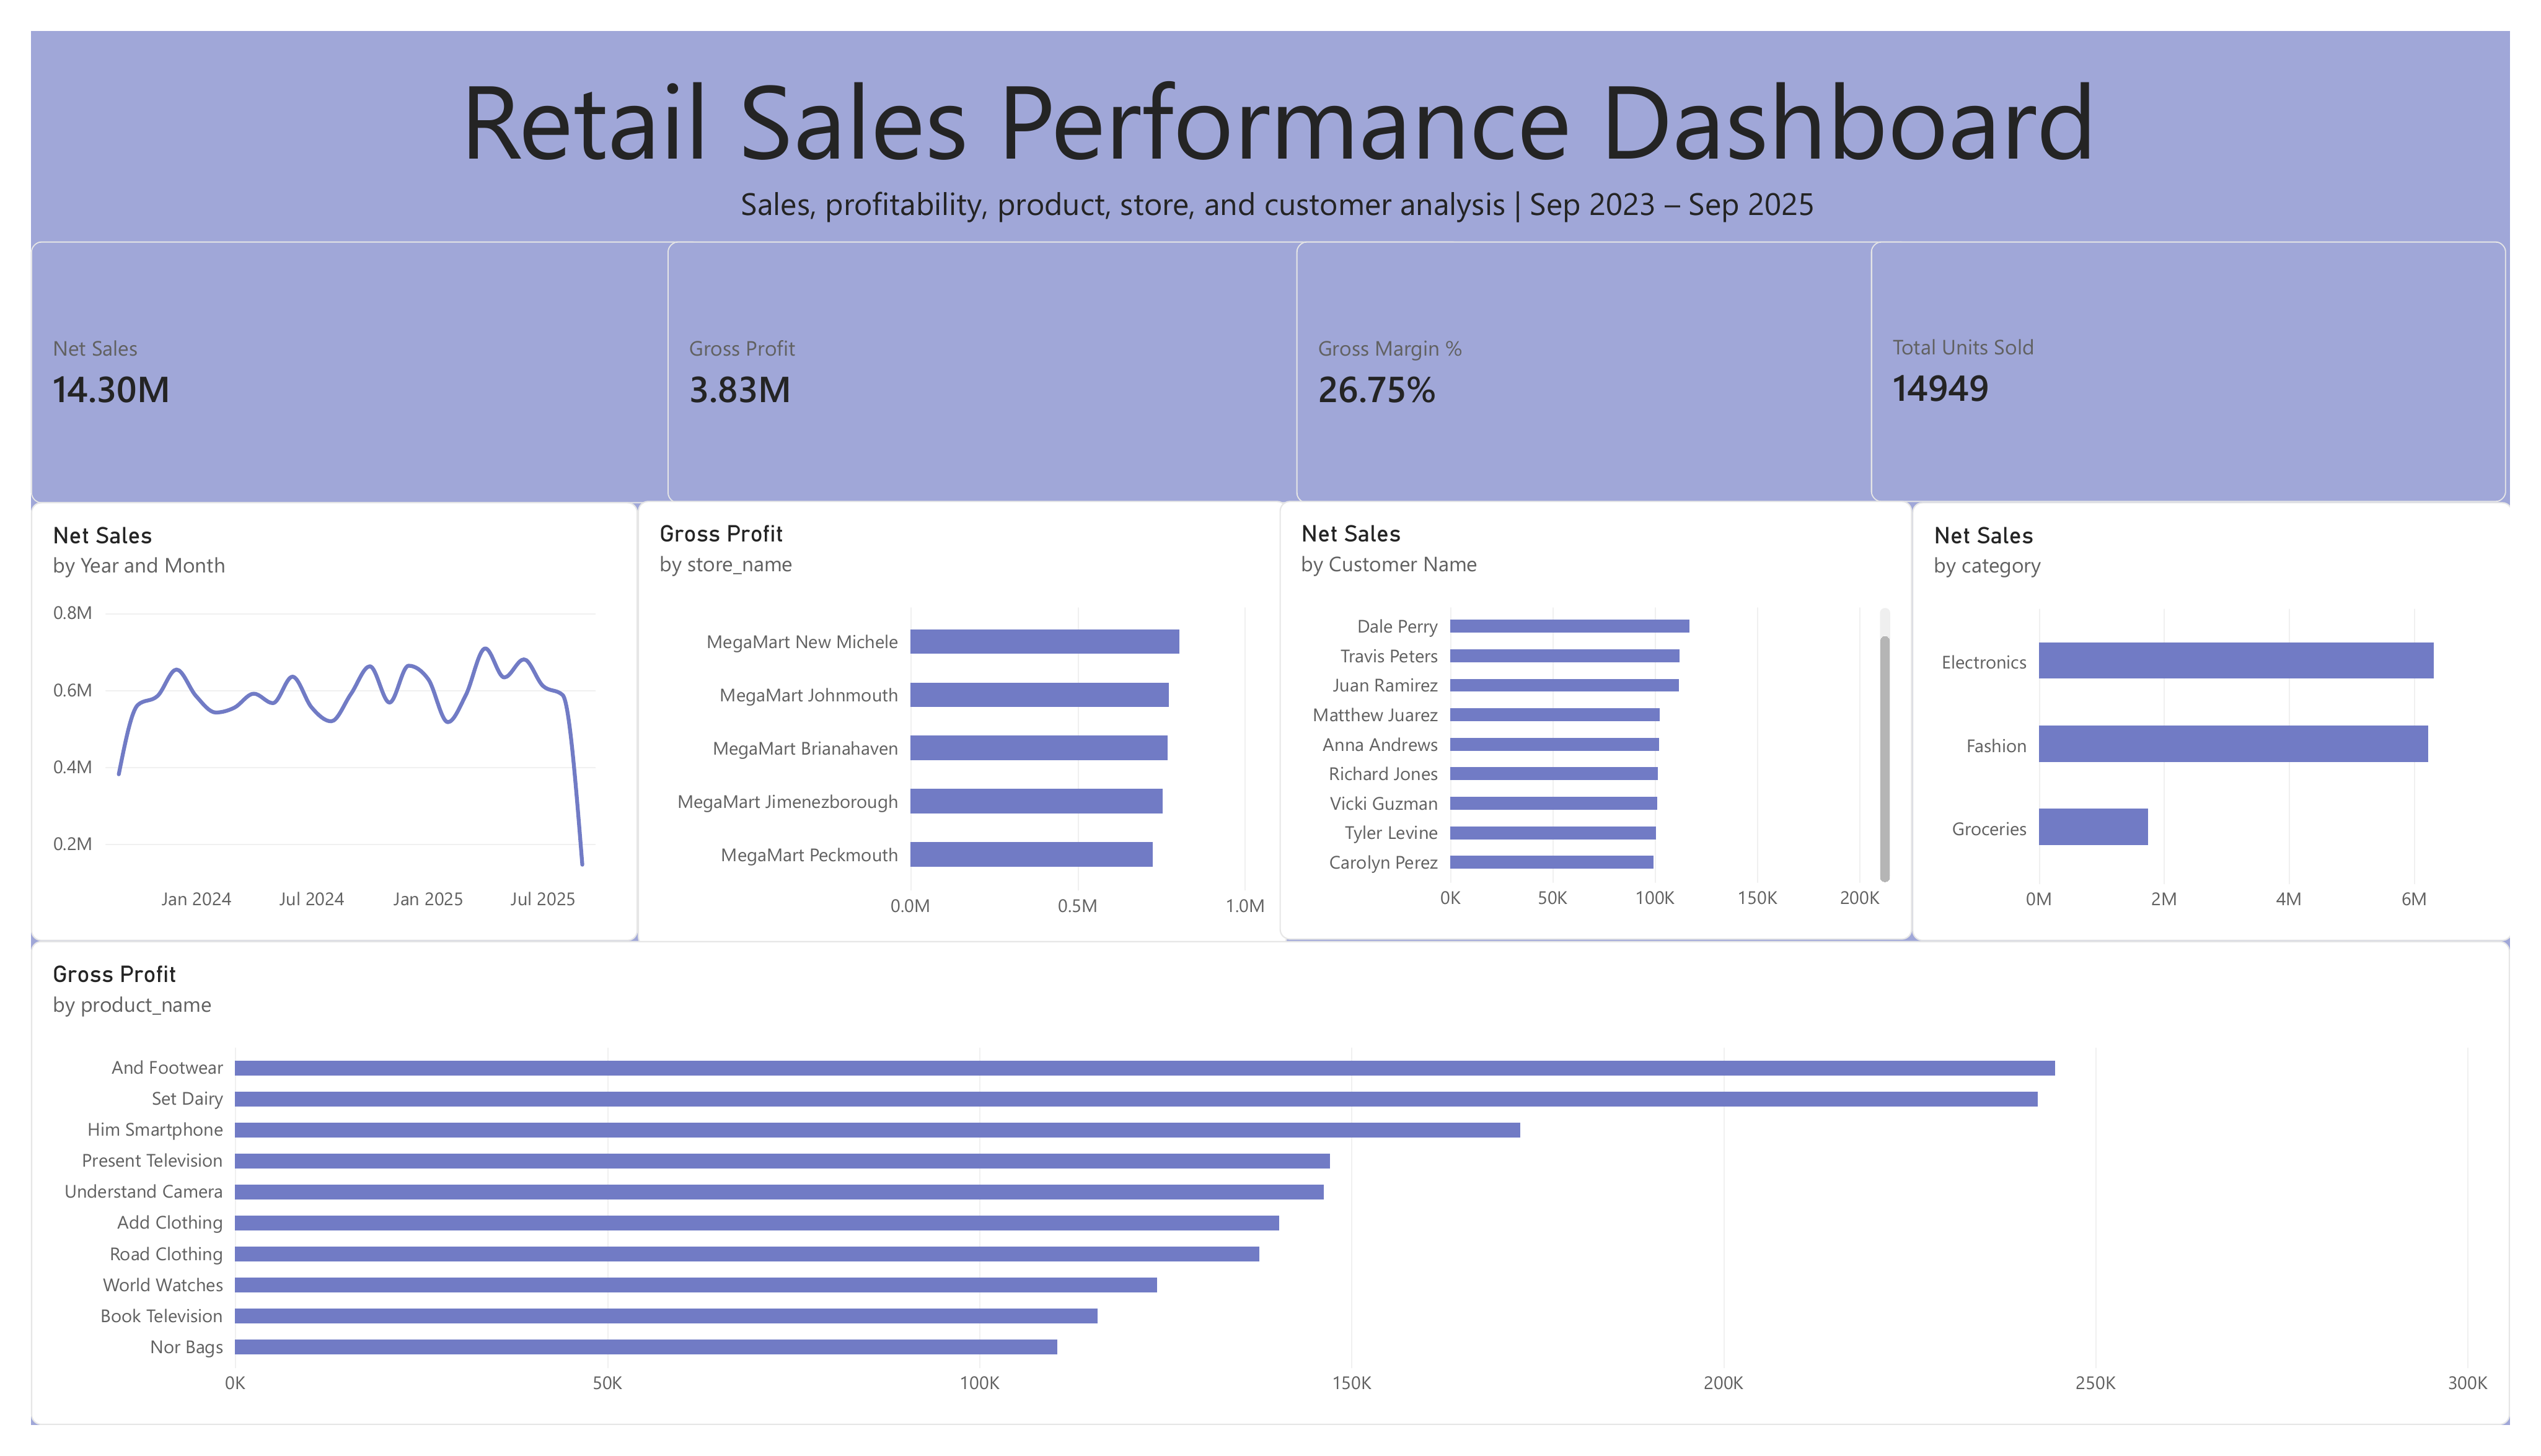

The page's visual inventory and layout, read from the dashboard file:
{"tool":"powerbi","page":{"name":"Page 1","canvas":[1920,1080],"ordinal":0},"visuals":[{"type":"cardVisual","fields":{"Data":["public customers.Net Sales"]},"box":[0,163.3,520,203.3],"z":0},{"type":"cardVisual","fields":{"Data":["public customers.Gross Profit"]},"box":[492.5,162.5,616.7,203.3],"z":1000},{"type":"cardVisual","fields":{"Data":["public customers.Gross Margin %"]},"box":[980,162.5,476.7,203.3],"z":2000},{"type":"cardVisual","fields":{"Data":["public customers.Total Units Sold"]},"box":[1425,162.5,492.5,202.5],"z":3000},{"type":"lineChart","fields":{"Category":["public transactions.transaction_date.Variation.Date Hierarchy.Year","public transactions.transaction_date.Variation.Date Hierarchy.Month"],"Y":["public customers.Net Sales"]},"box":[0,365,470,340],"z":4000},{"type":"barChart","fields":{"Category":["public products.category"],"Y":["public customers.Net Sales"]},"box":[1456.7,365,465,340],"z":5000},{"type":"barChart","fields":{"Category":["public stores.store_name"],"Y":["public customers.Gross Profit"]},"box":[470,364.3,502.9,345.7],"z":6000},{"type":"barChart","fields":{"Category":["public products.product_name"],"Y":["public customers.Gross Profit"]},"box":[0,705,1920,375],"z":7000},{"type":"barChart","fields":{"Category":["public customers.Customer Name"],"Y":["public customers.Net Sales"]},"box":[967.1,364.3,490,340],"z":8000},{"type":"textbox","box":[260,13.3,1413.3,140],"z":9000},{"type":"textbox","box":[550,116.7,850,73.3],"z":9001}]}

Visuals, with their boxes on the page's 1920x1080 design canvas (x1, y1, x2, y2). These are canvas units, not pixel positions in the 2541x1456 screenshot, which may show the page scaled, cropped or inside an application window:
cardVisual - public customers.Net Sales: bbox=(0, 163, 520, 367)
cardVisual - public customers.Gross Profit: bbox=(492, 162, 1109, 366)
cardVisual - public customers.Gross Margin %: bbox=(980, 162, 1457, 366)
cardVisual - public customers.Total Units Sold: bbox=(1425, 162, 1918, 365)
lineChart - public transactions.transaction_date.Variation.Date Hierarchy.Year x public transactions.transaction_date.Variation.Date Hierarchy.Month: bbox=(0, 365, 470, 705)
barChart - public products.category x public customers.Net Sales: bbox=(1457, 365, 1922, 705)
barChart - public stores.store_name x public customers.Gross Profit: bbox=(470, 364, 973, 710)
barChart - public products.product_name x public customers.Gross Profit: bbox=(0, 705, 1920, 1080)
barChart - public customers.Customer Name x public customers.Net Sales: bbox=(967, 364, 1457, 704)
textbox: bbox=(260, 13, 1673, 153)
textbox: bbox=(550, 117, 1400, 190)
